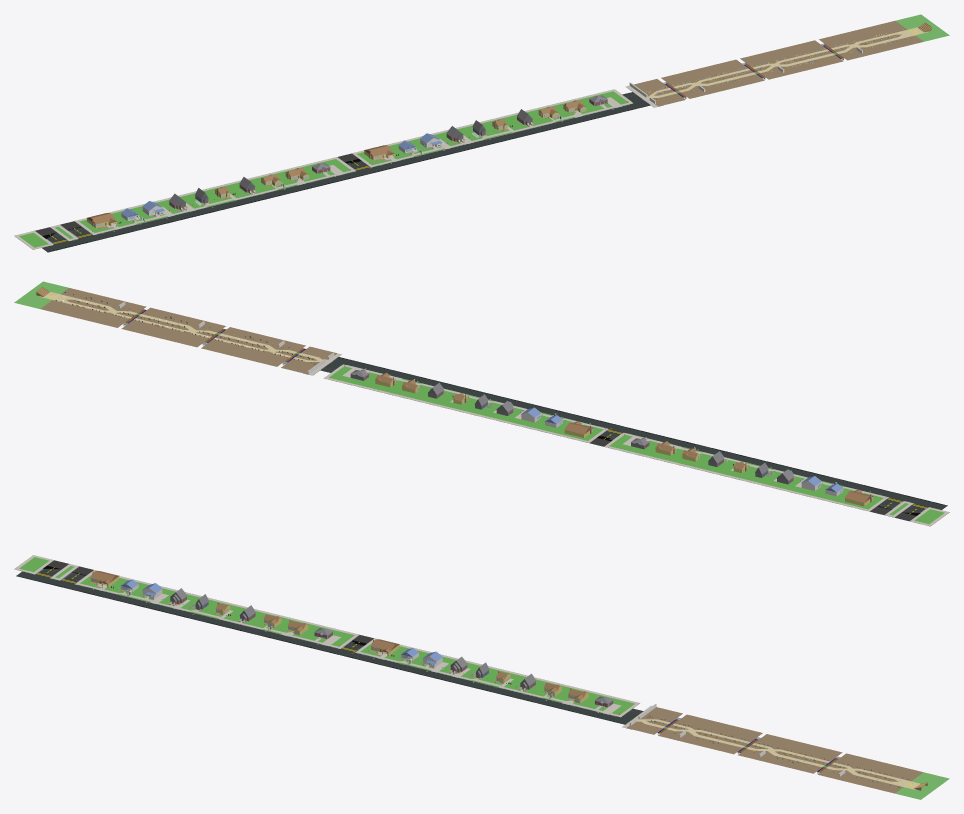
Rendered from paper-level.opt.glb.
The picture shows the model from 3 angles, top to bottom: view 1: azimuth 30°, elevation 25°; view 2: azimuth 150°, elevation 25°; view 3: azimuth 330°, elevation 25°; orthographic projection.
Parts seen in each view (by area): view 1: DarkDirt, WarpedPanorama.001, Cube.008, Cube.004, LightDirtTrack, GrassEnd; view 2: DarkDirt, WarpedPanorama.001, Cube.004, Cube.008, LightDirtTrack, GrassEnd; view 3: DarkDirt, WarpedPanorama.001, Cube.008, Cube.004, LightDirtTrack, GrassEnd.
Part boxes in pixels (x1=…): DarkDirt: x1=634, y1=21, x2=923, y2=106; WarpedPanorama.001: x1=42, y1=45, x2=843, y2=252; Cube.008: x1=352, y1=89, x2=632, y2=167; Cube.004: x1=74, y1=157, x2=355, y2=234; LightDirtTrack: x1=646, y1=27, x2=927, y2=99; GrassEnd: x1=895, y1=14, x2=949, y2=41; DarkDirt: x1=40, y1=288, x2=337, y2=373; WarpedPanorama.001: x1=125, y1=309, x2=947, y2=515; Cube.004: x1=604, y1=433, x2=888, y2=511; Cube.008: x1=324, y1=364, x2=608, y2=443; LightDirtTrack: x1=40, y1=292, x2=328, y2=361; GrassEnd: x1=14, y1=281, x2=68, y2=308; DarkDirt: x1=627, y1=707, x2=923, y2=793; WarpedPanorama.001: x1=16, y1=565, x2=838, y2=772; Cube.008: x1=355, y1=638, x2=639, y2=717; Cube.004: x1=75, y1=570, x2=359, y2=648; LightDirtTrack: x1=636, y1=719, x2=920, y2=790; GrassEnd: x1=895, y1=772, x2=949, y2=799.
Size of the model in its own units: 763 by 10 by 42.05.
Materials: 77 (1 with a texture image).
